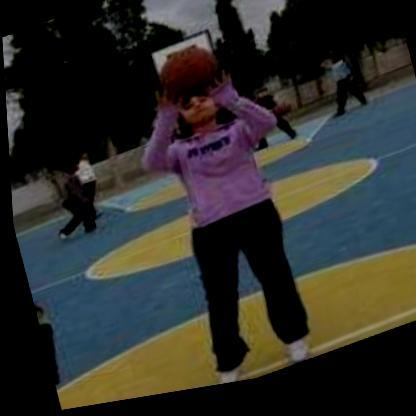basketball: (147, 38, 223, 120)
